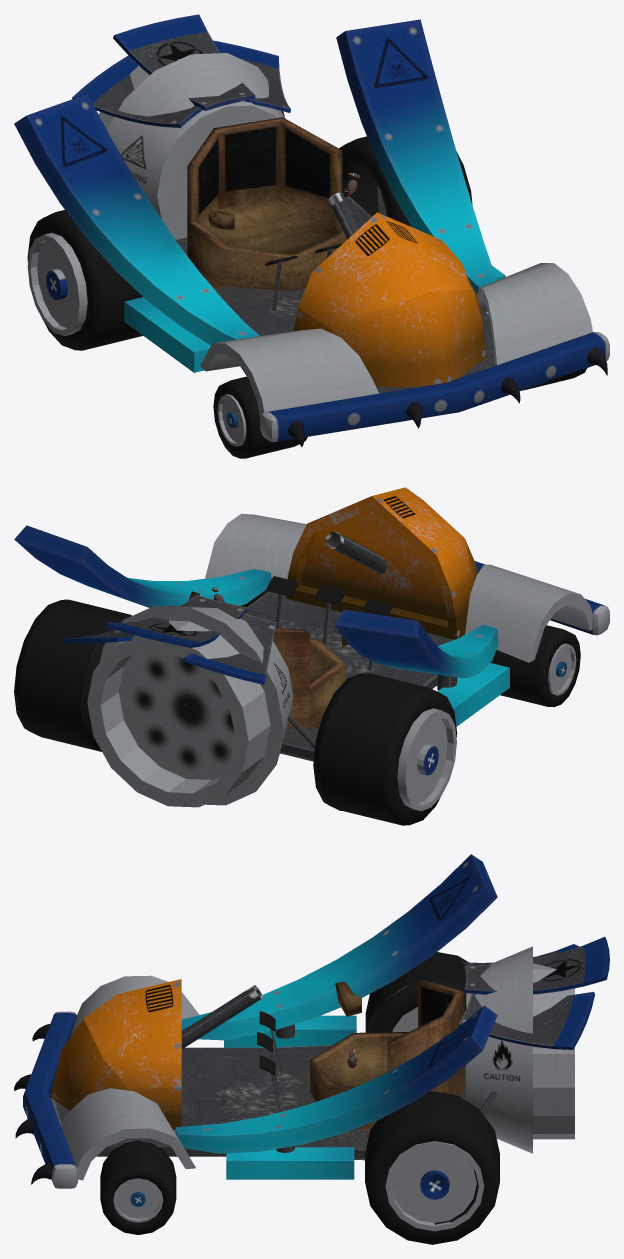
File: eagle.glb
The picture shows the model from 3 angles, top to bottom: view 1: azimuth 30°, elevation 25°; view 2: azimuth 150°, elevation 25°; view 3: azimuth 270°, elevation 25°; orthographic projection. The views are drawn at different scales.
Visible parts, largest first — view 1: body, wheelRL, wheelFL, wheelRR; view 2: body, wheelRL, wheelRR, wheelFL; view 3: body, wheelRR, wheelFR, wheelRL.
Boxes of the visible parts, <box> form: body: <box>14,14,609,446</box>; wheelRL: <box>27,210,142,350</box>; wheelFL: <box>213,376,307,458</box>; wheelRR: <box>339,136,472,226</box>; body: <box>14,487,609,807</box>; wheelRL: <box>313,673,457,825</box>; wheelRR: <box>14,599,132,751</box>; wheelFL: <box>490,625,580,707</box>; body: <box>14,854,609,1188</box>; wheelRR: <box>365,1091,499,1244</box>; wheelFR: <box>100,1141,176,1234</box>; wheelRL: <box>365,952,468,1032</box>.
Bounding box in the file's own units: 1.62 × 0.8434 × 2.17.
1 material, 1 textured.
